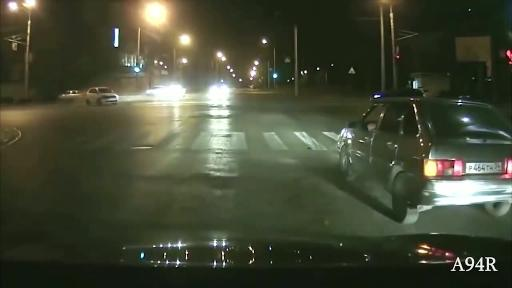Accident: (27, 53, 165, 147)
